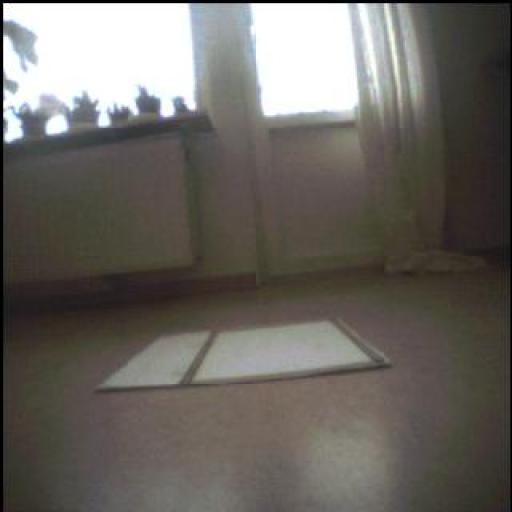Pad: (97, 316, 392, 390)
